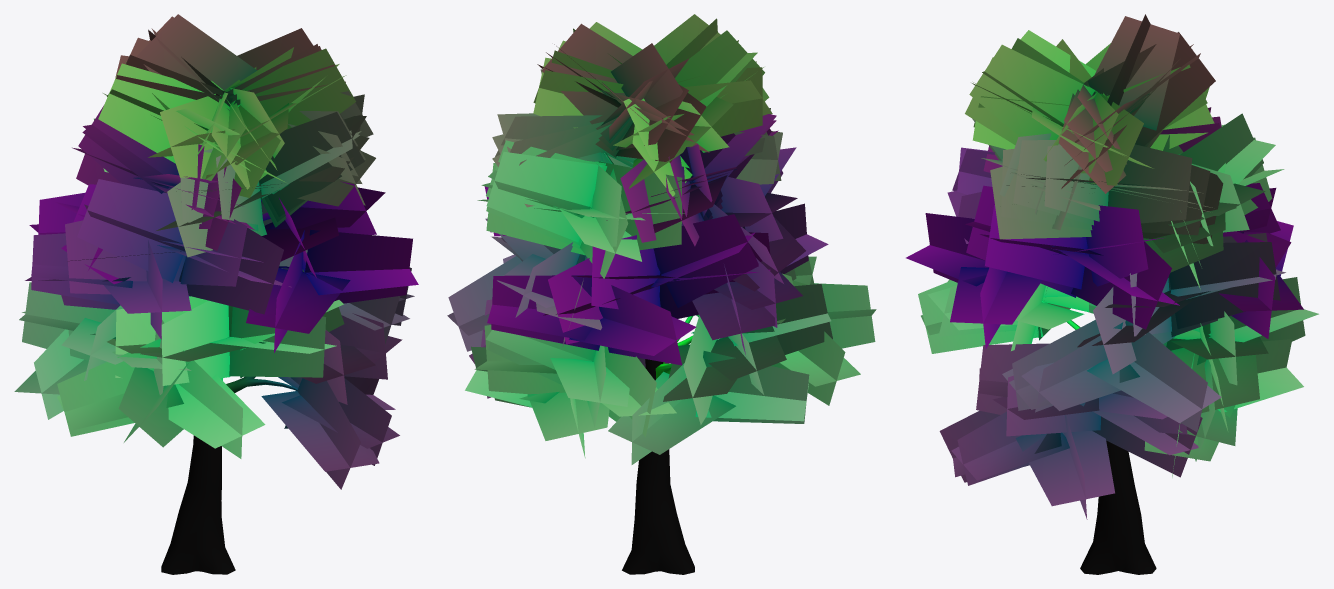
Rendered from Tree_4_2.fbx.
3 views of the same model, side by side, from view 1: azimuth 30°, elevation 25°; view 2: azimuth 150°, elevation 25°; view 3: azimuth 270°, elevation 25° (orthographic). The views are drawn at different scales.
Parts seen in each view (by area): view 1: _2; view 2: _2; view 3: _2.
Boxes of the visible parts, x1,y1,x2,y2 form: _2: [14, 14, 418, 574]; _2: [447, 14, 876, 574]; _2: [906, 14, 1318, 574].
Bounding box in the file's own units: 1693 × 2474 × 1701.
